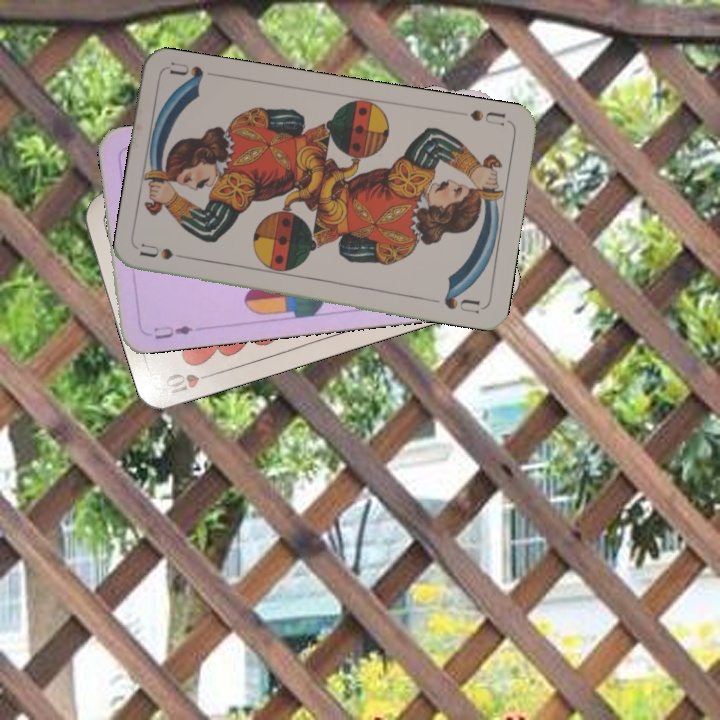EU: (150, 321, 195, 342)
H10: (161, 368, 219, 399)
SU: (137, 240, 197, 263), (466, 105, 508, 129)
